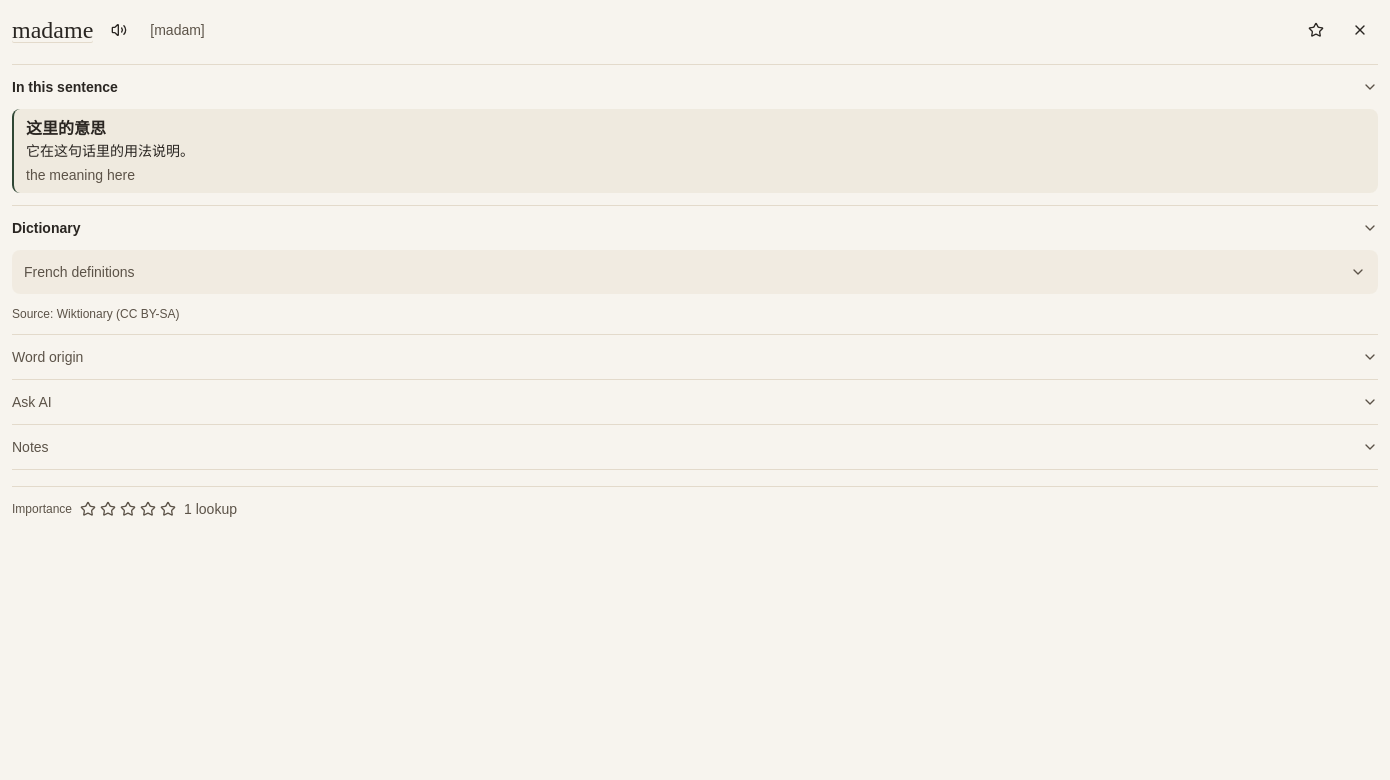
Test case: Task B — Study word card, selection and steps › loads Chinese context despite a stored English gloss, with collapsed French definitions
Expected: the element with class "wp-definition" shows "它在这句话里的用法说明。", [26,143,194,159]
Expected: the element with class "word-card" shows "[madam]", [145,19,210,41]
Click the button "French definitions": click(79, 272) [24,250,1366,294]
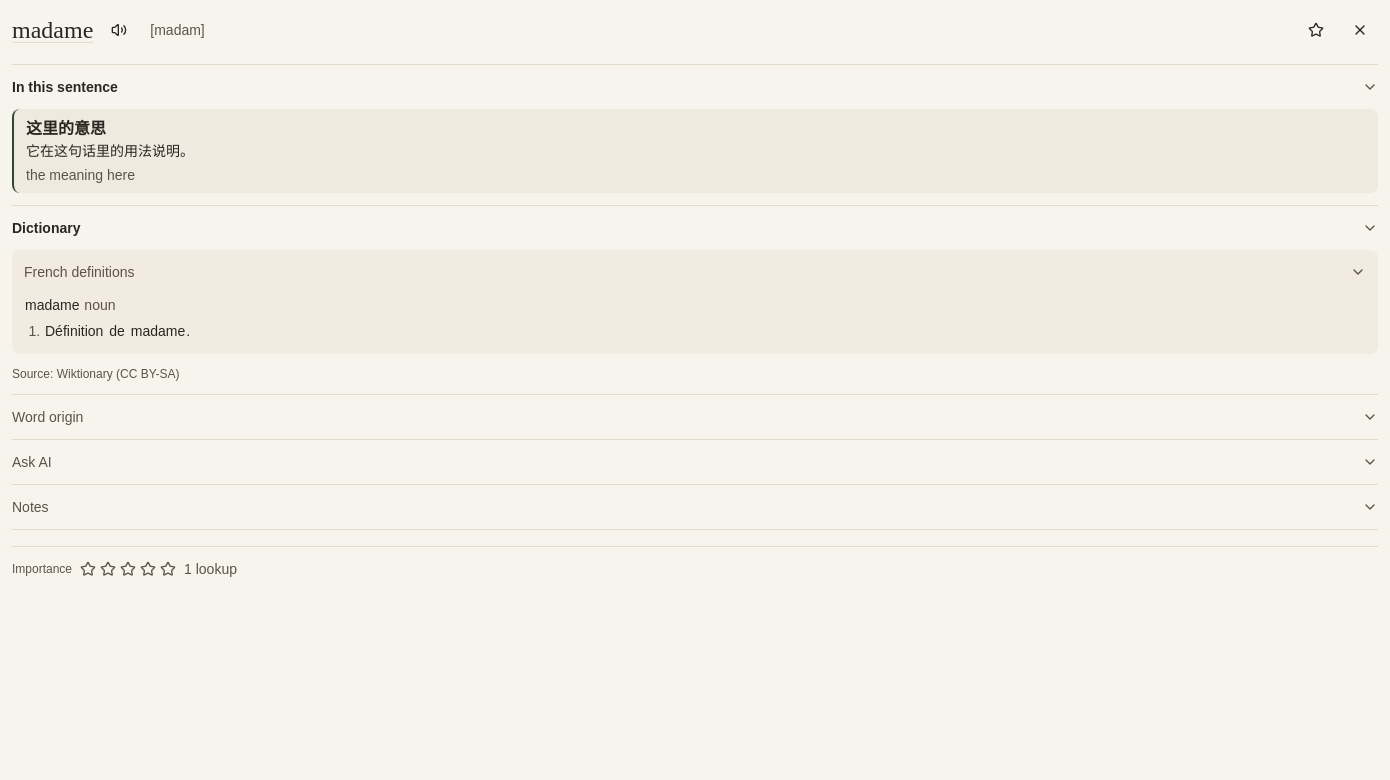
Expected: the element with class "word-card" shows "the meaning here", [26,167,135,183]
Now the element with class "word-card" shows "Définition de madame."
